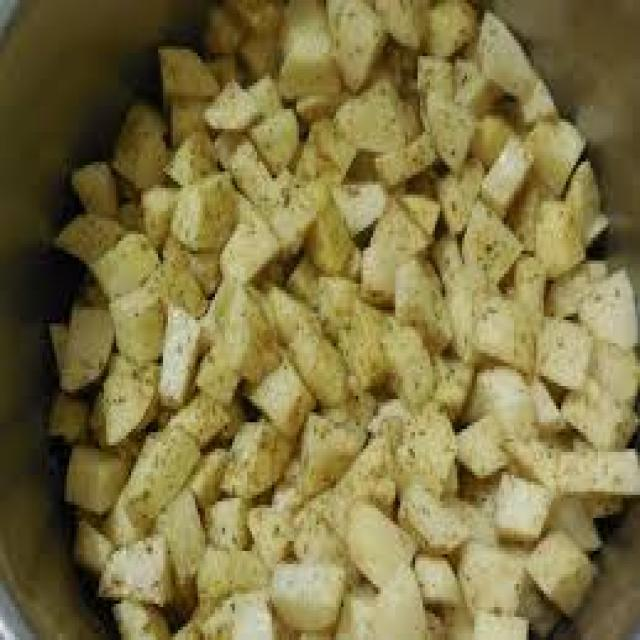Potato: (44, 0, 640, 640)
